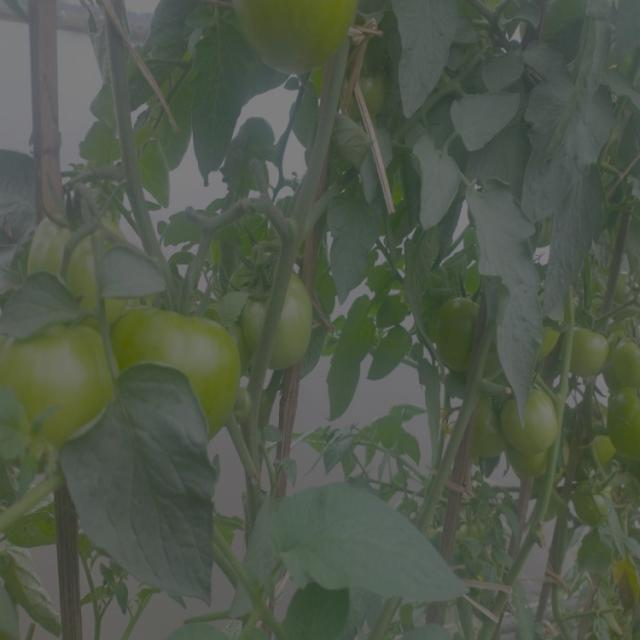tomato: (111, 312, 236, 442), (1, 314, 105, 440), (35, 207, 156, 311), (238, 262, 319, 374), (233, 1, 356, 74), (423, 290, 491, 376), (501, 382, 565, 455), (458, 394, 500, 460), (604, 392, 640, 452), (346, 72, 389, 119), (564, 328, 606, 374), (574, 482, 612, 523), (613, 337, 640, 389), (513, 456, 557, 478)
